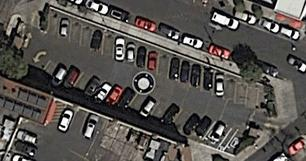parkingspot: (46, 8, 268, 114), (35, 58, 233, 145), (67, 0, 279, 78), (231, 7, 305, 43), (56, 103, 104, 143), (8, 117, 45, 161)
